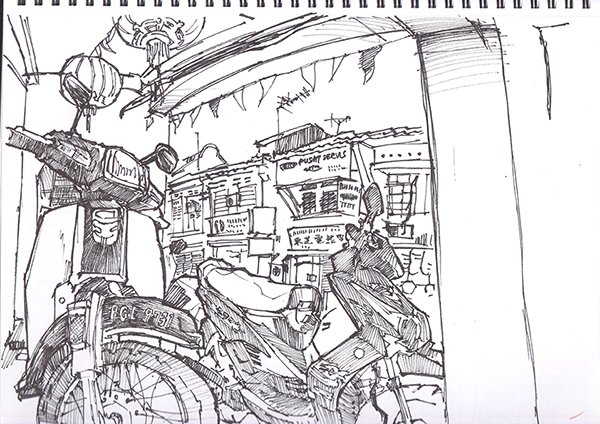bicycle: (253, 175, 490, 415), (58, 107, 186, 400)
